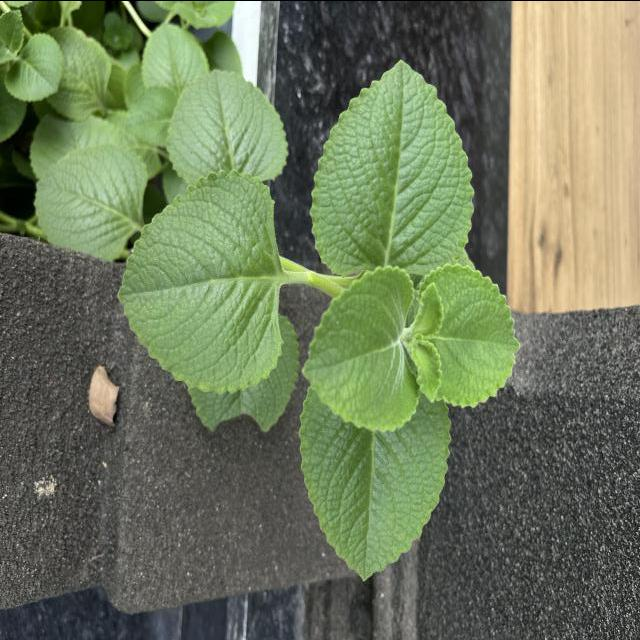Plectranthus barbatus: (116, 168, 286, 394), (307, 57, 477, 276), (296, 398, 452, 582), (299, 263, 422, 434), (416, 261, 522, 408), (165, 67, 290, 191), (32, 141, 150, 262), (4, 31, 66, 102)
